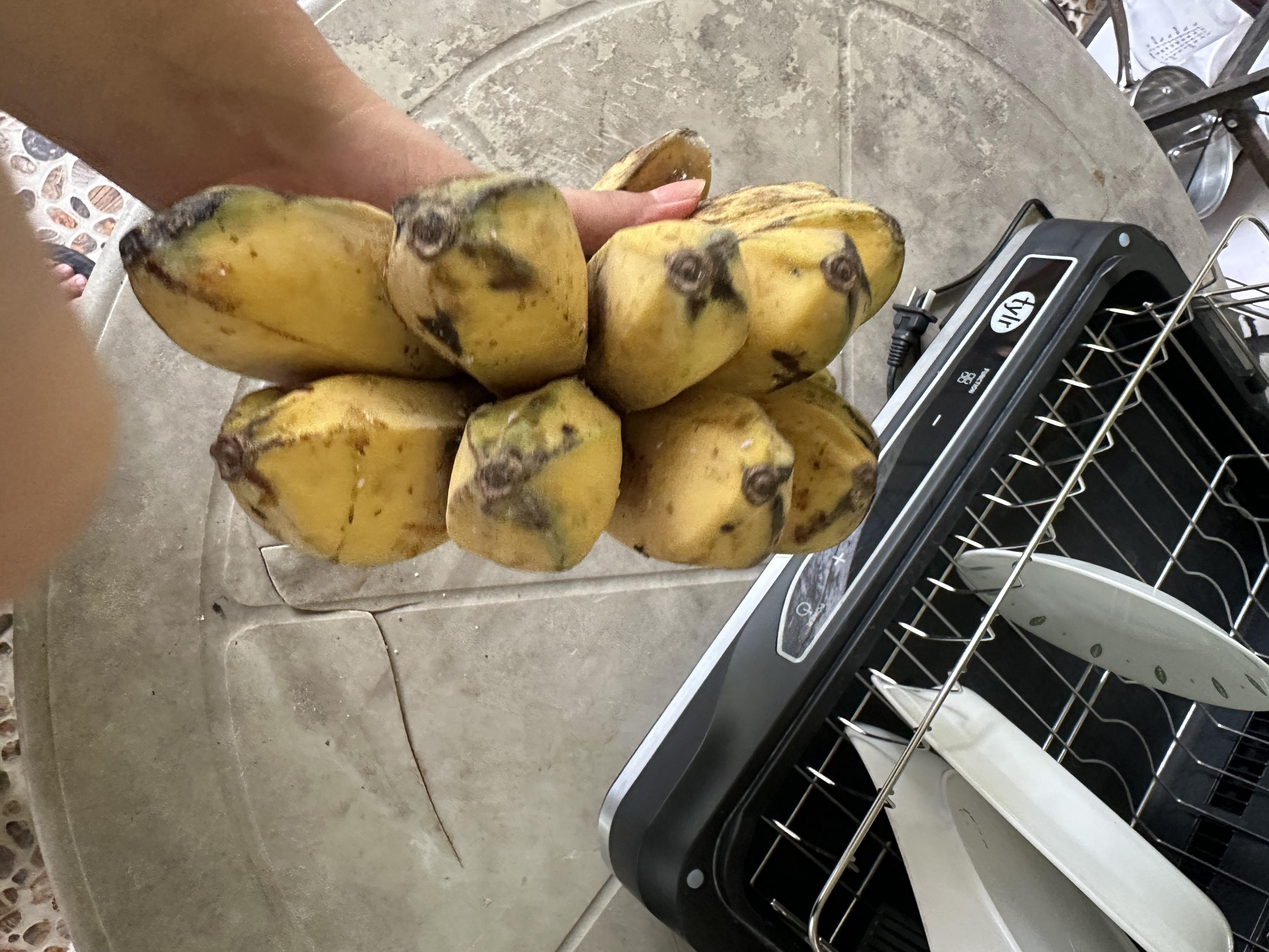ripe: (120, 174, 904, 571)
